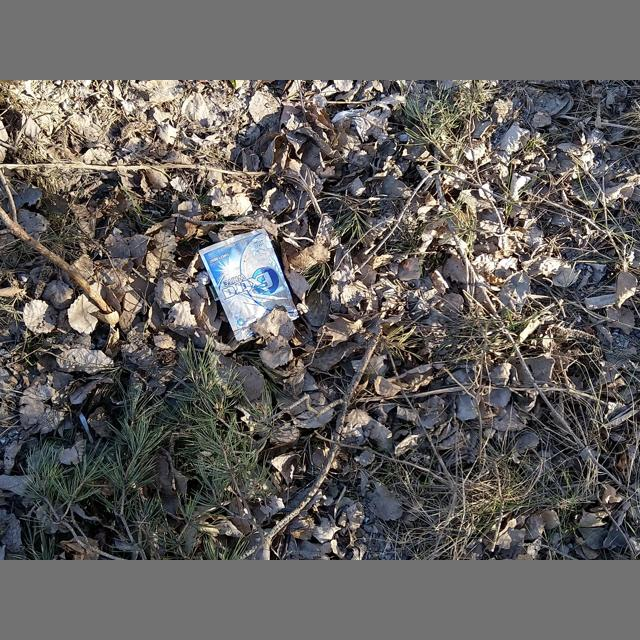litter: (198, 229, 299, 341)
